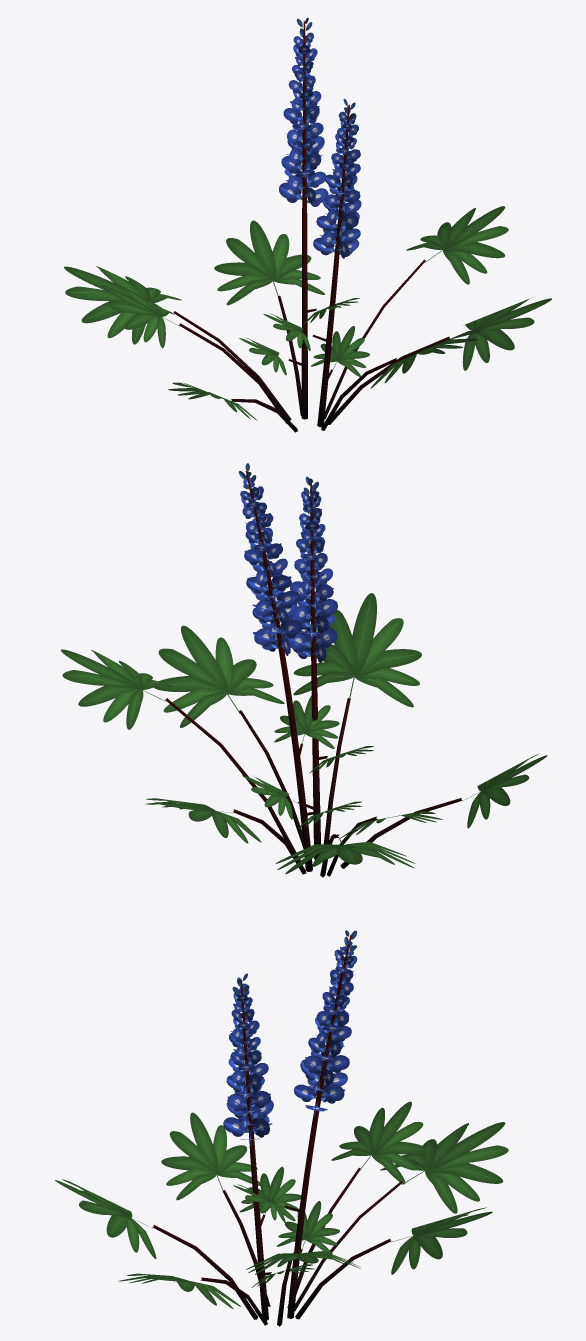
Rendered from lupine_v01_LOD1.glb.
3 renders of one model, top to bottom at view 1: azimuth 30°, elevation 25°; view 2: azimuth 150°, elevation 25°; view 3: azimuth 270°, elevation 25°, orthographic. The views are drawn at different scales.
Parts seen in each view (by area): view 1: lupine_v01_LOD1; view 2: lupine_v01_LOD1; view 3: lupine_v01_LOD1.
Boxes of the visible parts, left/top/right/bottom form: lupine_v01_LOD1: left=64, top=17, right=551, bottom=432; lupine_v01_LOD1: left=60, top=463, right=547, bottom=877; lupine_v01_LOD1: left=55, top=930, right=508, bottom=1326.
Size of the model in its own units: 0.7647 by 0.63 by 0.7843.
3 materials, 3 textured.
